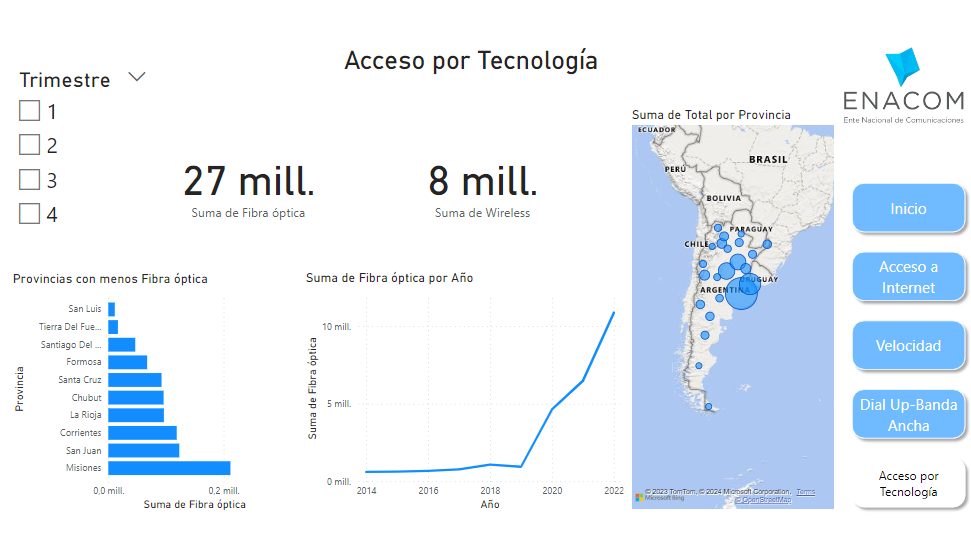

The dashboard page shown, as its layout file describes it:
{"tool":"powerbi","page":{"name":"Acceso por Tecnología","canvas":[1280,720],"ordinal":4},"visuals":[{"type":"pageNavigator","box":[1115.6,238.2,164.4,441.2],"z":0},{"type":"image","box":[1103.9,48.7,176.1,139.2],"z":1000},{"type":"textbox","box":[452.9,60.4,375.8,58.7],"z":2000},{"type":"barChart","title":"Provincias con menos Fibra óptica","fields":{"Category":["Accesos Por Tecnología.Provincia"],"Y":["Sum(Accesos Por Tecnología.Fibra óptica)"]},"box":[20.1,360.7,382.5,318.7],"z":3000},{"type":"map","fields":{"Category":["Accesos Por Tecnología.Provincia"],"Size":["Sum(Accesos Por Tecnología.Total)"]},"box":[829.4,146.9,275,531.4],"z":4000},{"type":"card","fields":{"Values":["Sum(Accesos Por Tecnología.Wireless)"]},"box":[515.5,146.9,247.7,198.7],"z":5000},{"type":"lineChart","fields":{"Y":["Sum(Accesos Por Tecnología.Fibra óptica)"],"Category":["Accesos Por Tecnología.Año"]},"box":[403.2,360,426.2,319.7],"z":6000},{"type":"slicer","fields":{"Values":["Accesos Por Tecnología.Trimestre"]},"box":[20.2,89.3,191.5,247.7],"z":7000},{"type":"card","fields":{"Values":["Sum(Accesos Por Tecnología.Fibra óptica)"]},"box":[211.7,146.9,241.9,198.7],"z":8000}]}

Visuals, with their boxes in screenshot pixels (x1, y1, x2, y2), scaled from the page's 1280x720 canvas onto the 971x543 screenshot:
pageNavigator: <box>846,180,970,512</box>
image: <box>837,37,970,142</box>
textbox: <box>344,46,629,90</box>
"Provincias con menos Fibra óptica" barChart: <box>15,272,305,512</box>
map - Accesos Por Tecnología.Provincia x Sum(Accesos Por Tecnología.Total): <box>629,111,838,512</box>
card - Sum(Accesos Por Tecnología.Wireless): <box>391,111,579,261</box>
lineChart - Sum(Accesos Por Tecnología.Fibra óptica) x Accesos Por Tecnología.Año: <box>306,272,629,513</box>
slicer - Accesos Por Tecnología.Trimestre: <box>15,67,161,254</box>
card - Sum(Accesos Por Tecnología.Fibra óptica): <box>161,111,344,261</box>
